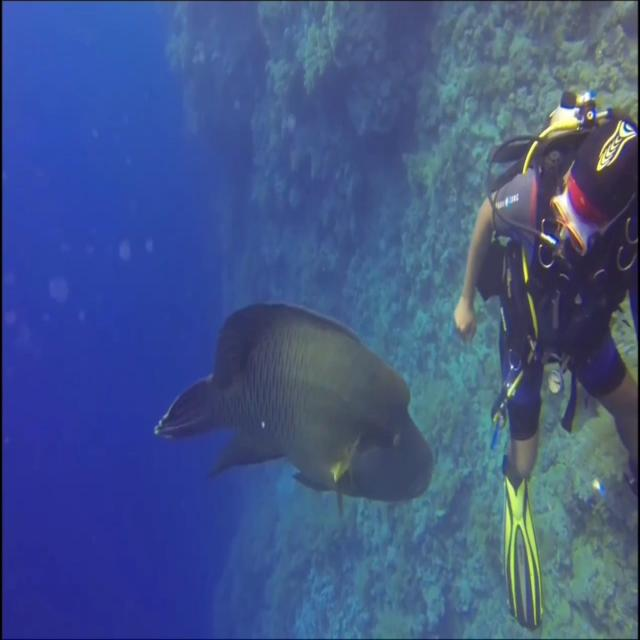Napoleon -Endangered-: (153, 302, 435, 503)
